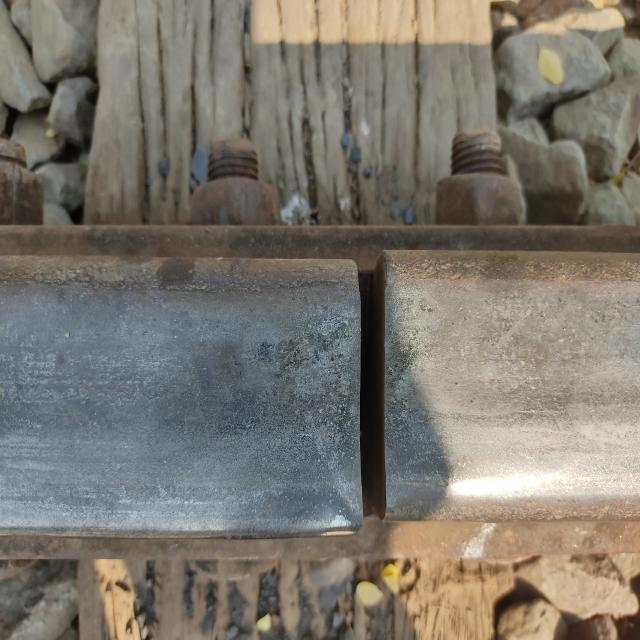defective: (141, 100, 538, 626)
